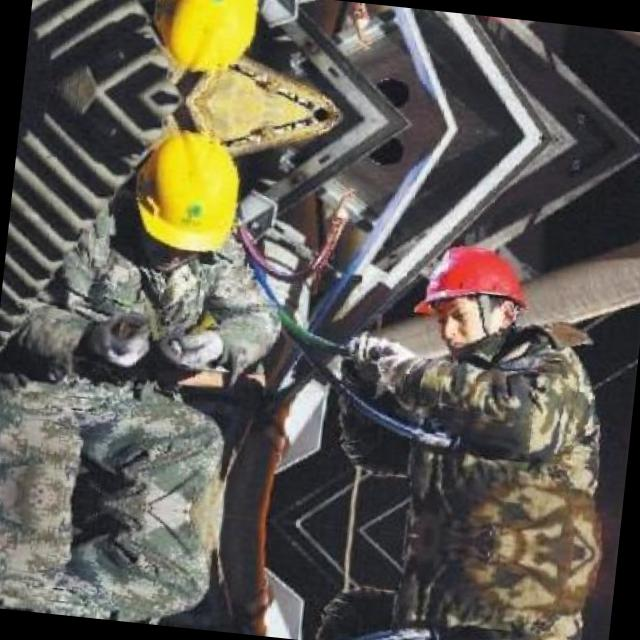helmet: (112, 120, 260, 280), (412, 236, 542, 354), (131, 0, 275, 82)
